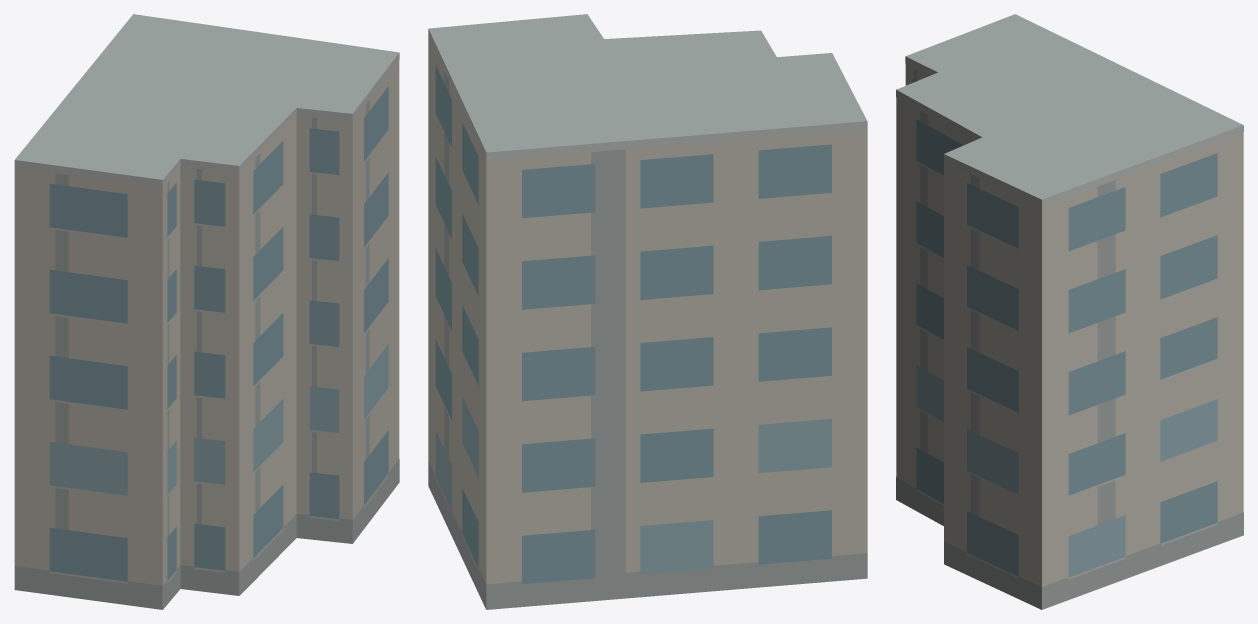
The model's file is survey-upis-32636227.glb.
3 views of the same model, side by side, from view 1: azimuth 30°, elevation 25°; view 2: azimuth 150°, elevation 25°; view 3: azimuth 270°, elevation 25° (orthographic). The views are drawn at different scales.
Visible parts, largest first — view 1: survey-upis-32636227.tmp; view 2: survey-upis-32636227.tmp; view 3: survey-upis-32636227.tmp.
Part boxes in pixels (x1,y1,x2,y2): survey-upis-32636227.tmp: [14, 14, 399, 609]; survey-upis-32636227.tmp: [428, 14, 867, 609]; survey-upis-32636227.tmp: [896, 14, 1243, 609].
Size of the model in its own units: 12.92 by 13.3 by 10.22.
